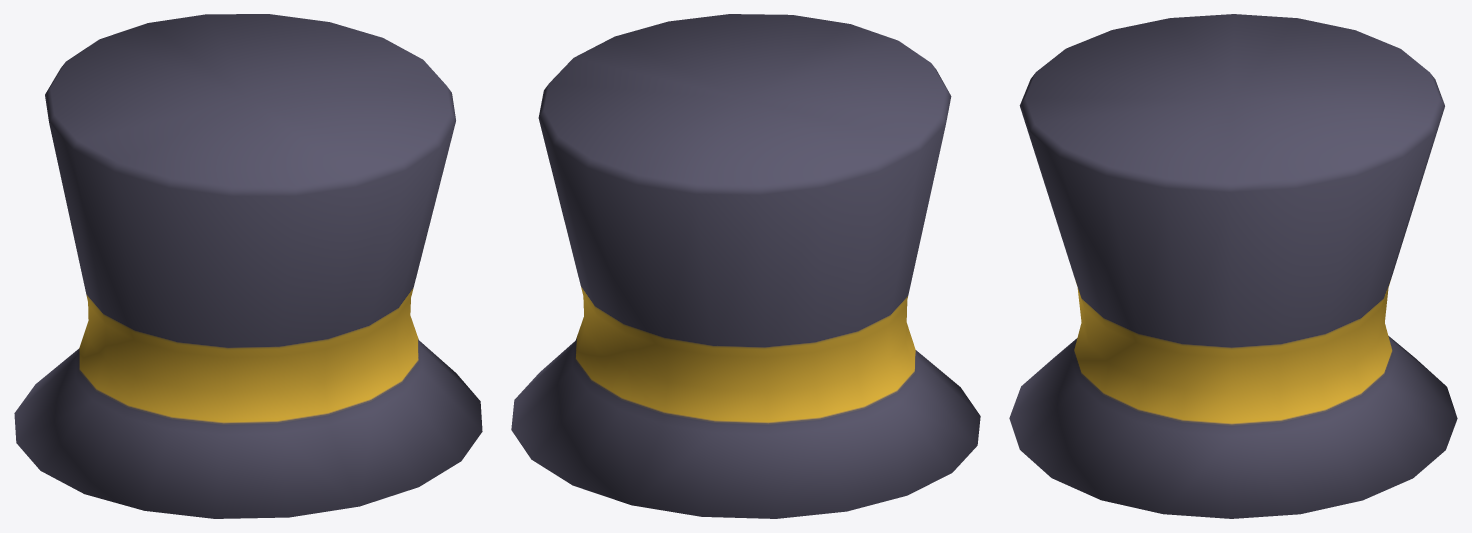
The model's file is DCTophat.fbx.
3 views of the same model, side by side, from view 1: azimuth 30°, elevation 25°; view 2: azimuth 150°, elevation 25°; view 3: azimuth 270°, elevation 25° (orthographic).
Visible parts, largest first — view 1: HatKidGreg; view 2: HatKidGreg; view 3: HatKidGreg.
Boxes of the visible parts, x1=… form: HatKidGreg: x1=14, y1=14, x2=482, y2=518; HatKidGreg: x1=511, y1=14, x2=980, y2=518; HatKidGreg: x1=1009, y1=14, x2=1457, y2=518.
Size of the model in its own units: 3865 by 2938 by 3645.
